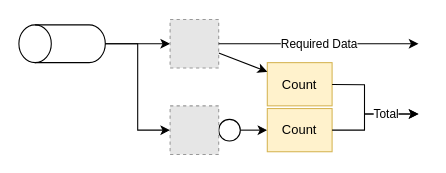
The diagram is 446 pixels wide and 173 high, and some of its shapes have lost their labels. Grey dashed boxes stand in for pictures. The shapes that lost their labels are listed below. From the top down, each one's centre as x and y in pixels, then its label:
At point 61,43: "All Data".
At point 229,129: "NOT".
